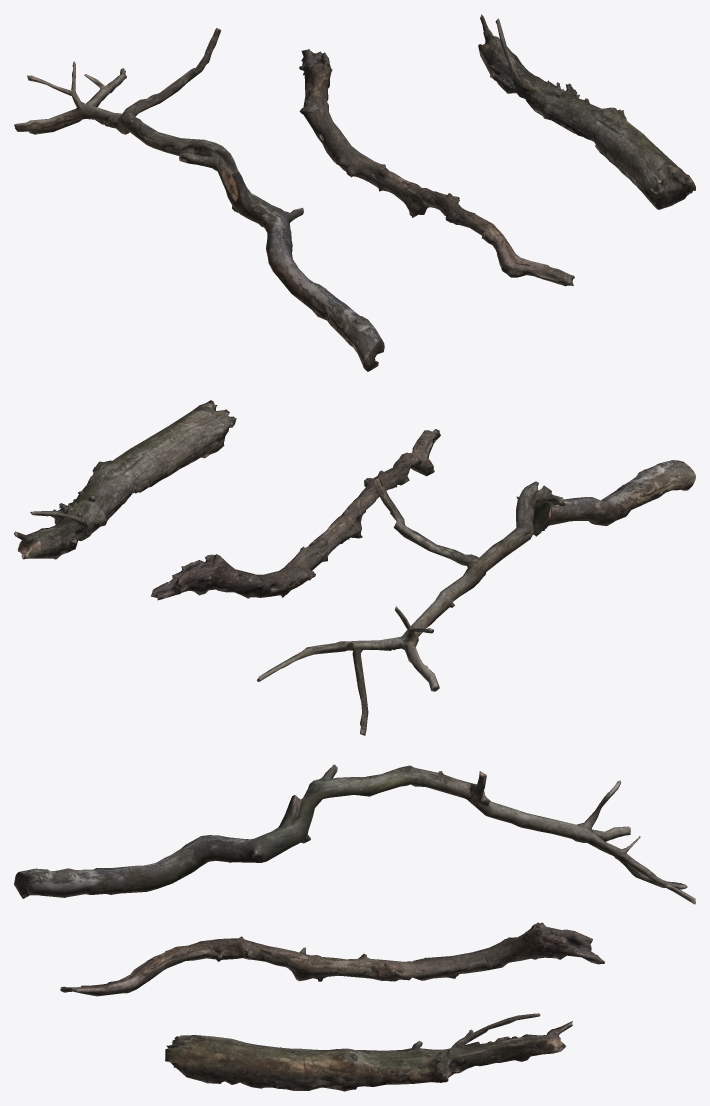
Rendered from dry_branches_medium_01.glb.
3 renders of one model, top to bottom at view 1: azimuth 30°, elevation 25°; view 2: azimuth 150°, elevation 25°; view 3: azimuth 270°, elevation 25°, orthographic. The views are drawn at different scales.
Visible parts, largest first — view 1: dry_branches_medium_01_a, dry_branches_medium_01_c, dry_branches_medium_01_b; view 2: dry_branches_medium_01_a, dry_branches_medium_01_c, dry_branches_medium_01_b; view 3: dry_branches_medium_01_a, dry_branches_medium_01_c, dry_branches_medium_01_b.
Boxes of the visible parts, x1=… form: dry_branches_medium_01_a: x1=14, y1=28, x2=384, y2=371; dry_branches_medium_01_c: x1=478, y1=14, x2=695, y2=209; dry_branches_medium_01_b: x1=299, y1=49, x2=574, y2=286; dry_branches_medium_01_a: x1=257, y1=460, x2=695, y2=735; dry_branches_medium_01_c: x1=14, y1=400, x2=236, y2=559; dry_branches_medium_01_b: x1=150, y1=429, x2=440, y2=600; dry_branches_medium_01_a: x1=14, y1=764, x2=695, y2=904; dry_branches_medium_01_c: x1=165, y1=1013, x2=572, y2=1091; dry_branches_medium_01_b: x1=60, y1=922, x2=604, y2=996.
Size of the model in its own units: 1.06 by 0.341 by 1.3.
1 material, 1 textured.
